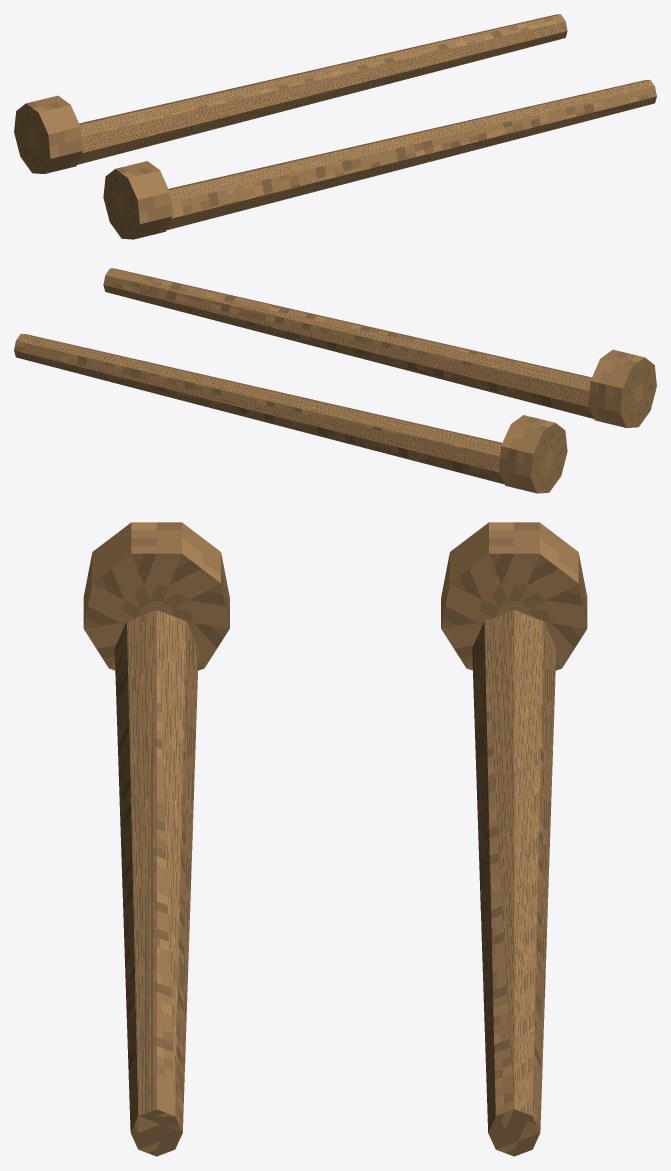
The model's file is knitting_needles.glb.
3 renders of one model, top to bottom at view 1: azimuth 30°, elevation 25°; view 2: azimuth 150°, elevation 25°; view 3: azimuth 270°, elevation 25°, orthographic. The views are drawn at different scales.
Visible parts, largest first — view 1: block_wooden knitting needle (×2), block_rounded stop (×2); view 2: block_wooden knitting needle (×2), block_rounded stop (×2); view 3: block_wooden knitting needle (×2), block_rounded stop (×2).
Part boxes in pixels (bbox=[...]): block_wooden knitting needle (×2): bbox=[77, 14, 656, 230]; block_rounded stop (×2): bbox=[14, 95, 171, 239]; block_wooden knitting needle (×2): bbox=[14, 268, 593, 484]; block_rounded stop (×2): bbox=[499, 349, 656, 493]; block_wooden knitting needle (×2): bbox=[114, 610, 556, 1156]; block_rounded stop (×2): bbox=[83, 522, 587, 670].
Bounding box in the file's own units: 0.36 × 0.0433 × 0.1485.
Materials: 1 (1 with a texture image).
